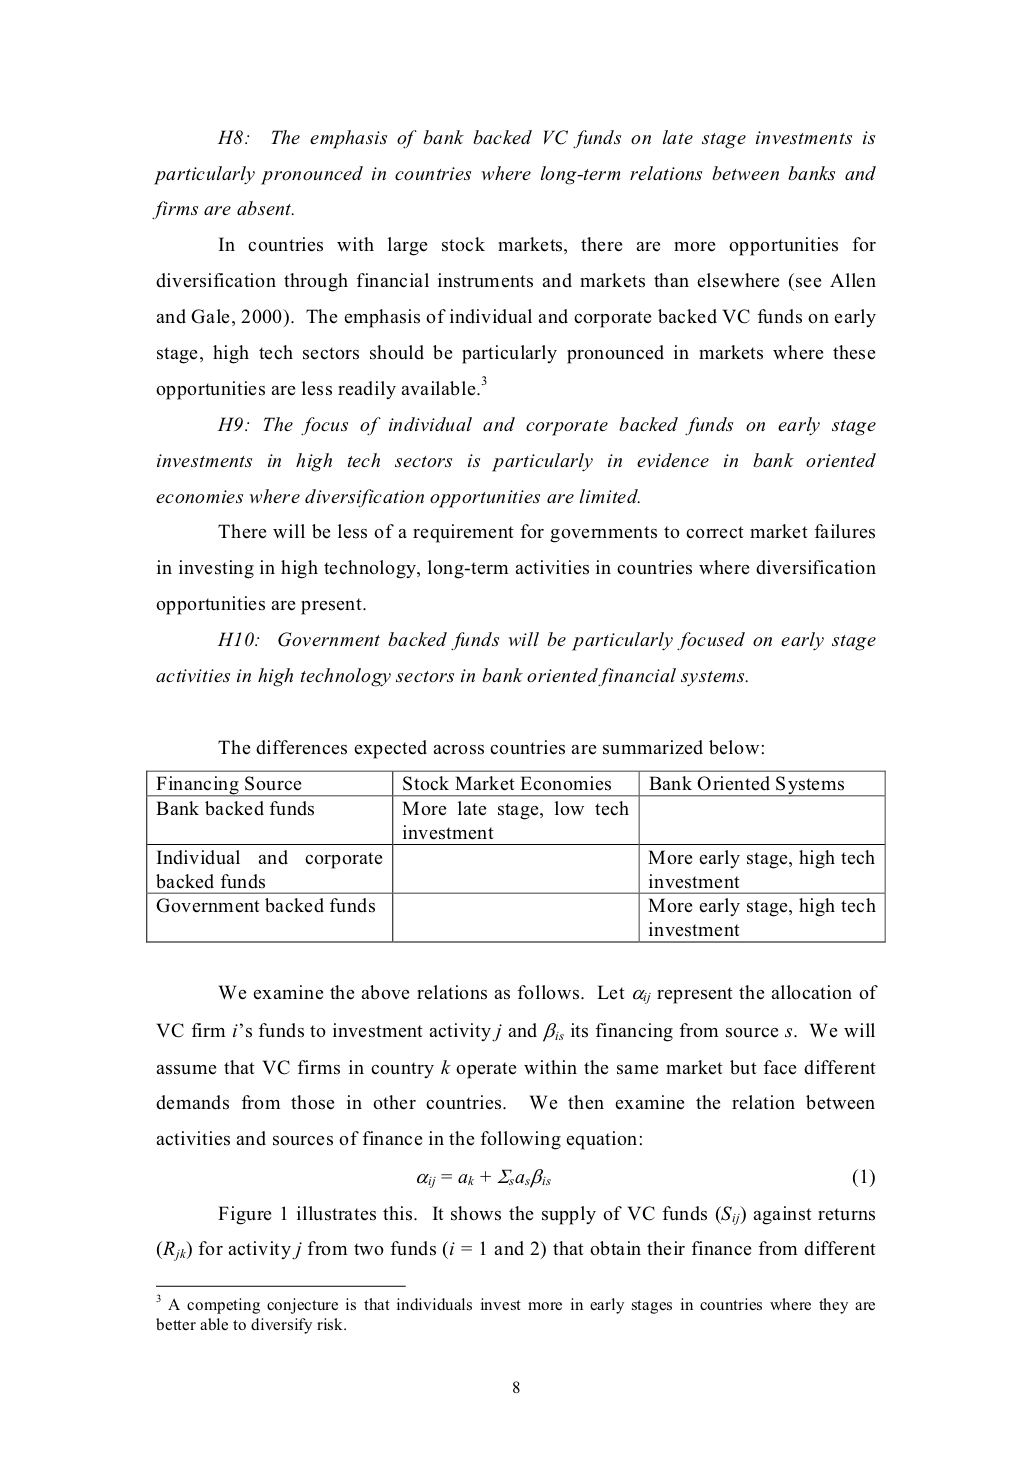Table: (146, 769, 885, 943)
formula: (417, 1168, 874, 1188)
